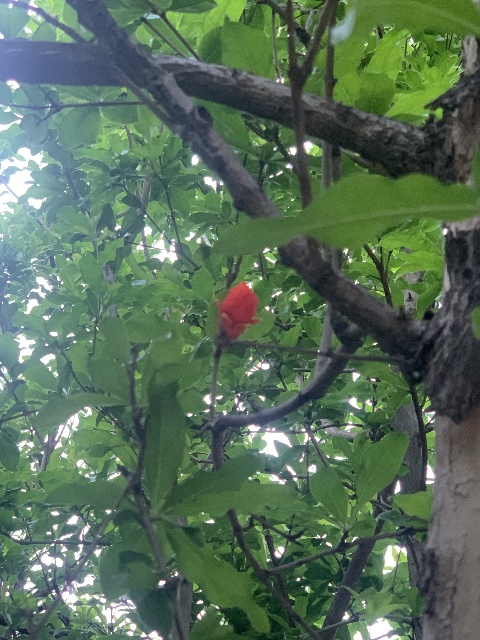flower: (214, 281, 262, 340)
